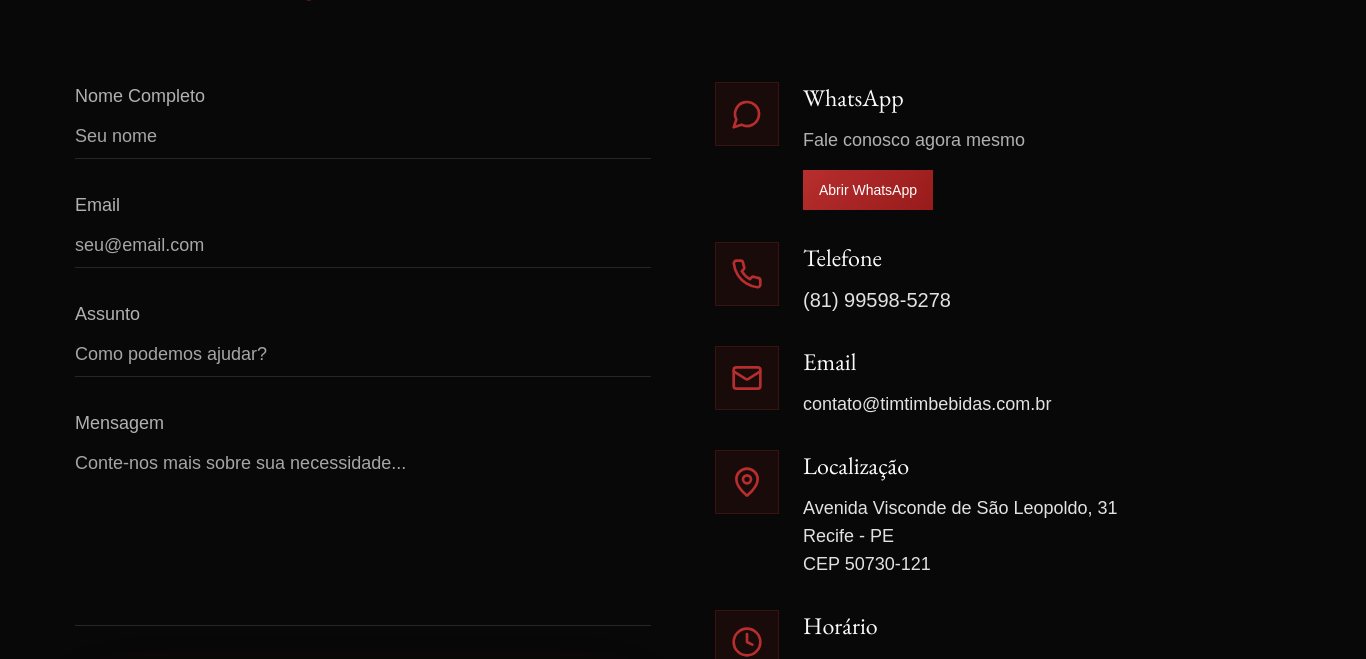
it: Contact Form › Form Validation › should show error when subject is too short
(page scrolled)
Type "Hi" into the field labelled "Assunto" at point(363, 358), box [75, 340, 651, 377]
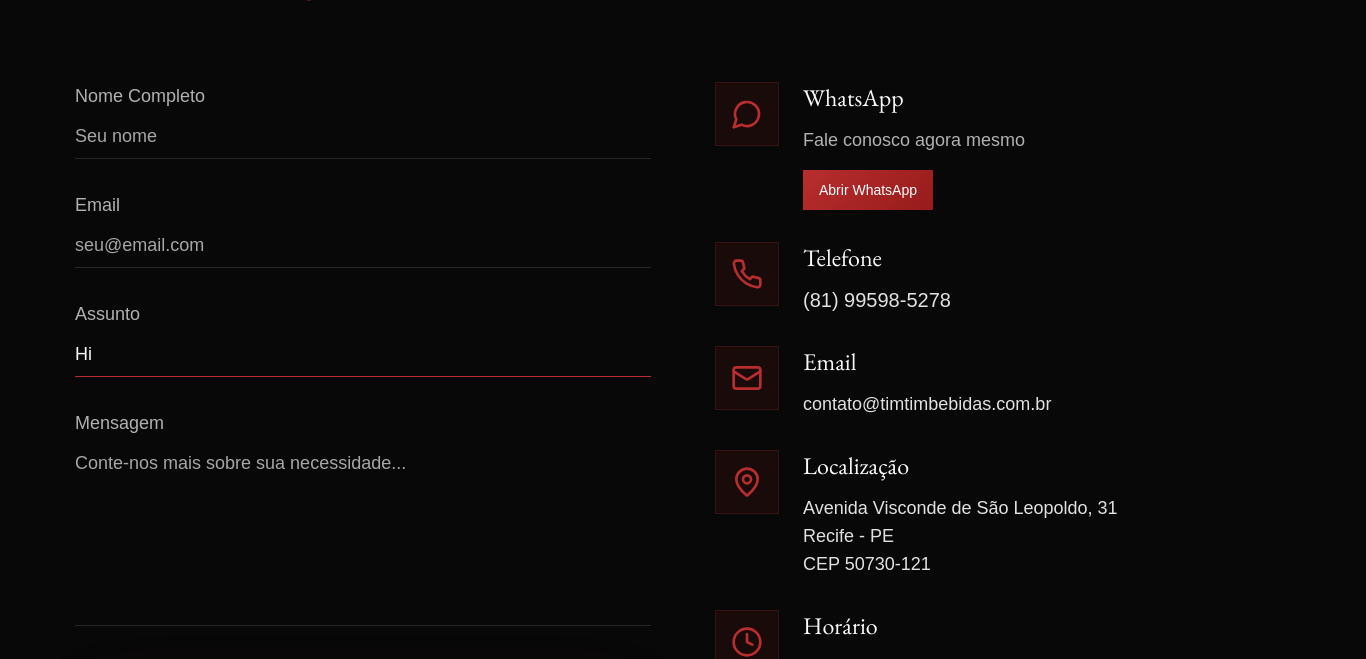
Press Tab
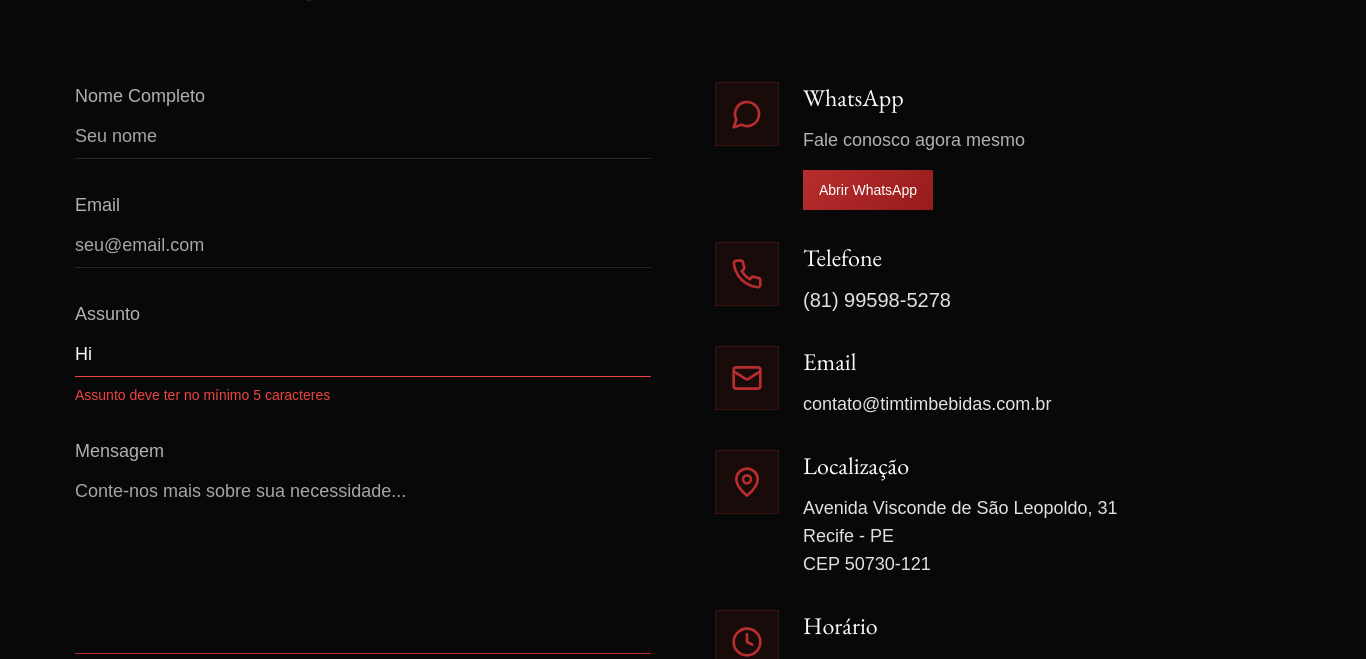
Expected: the text "Assunto deve ter no mínimo 5 caracteres" is shown, [75, 387, 330, 403]
